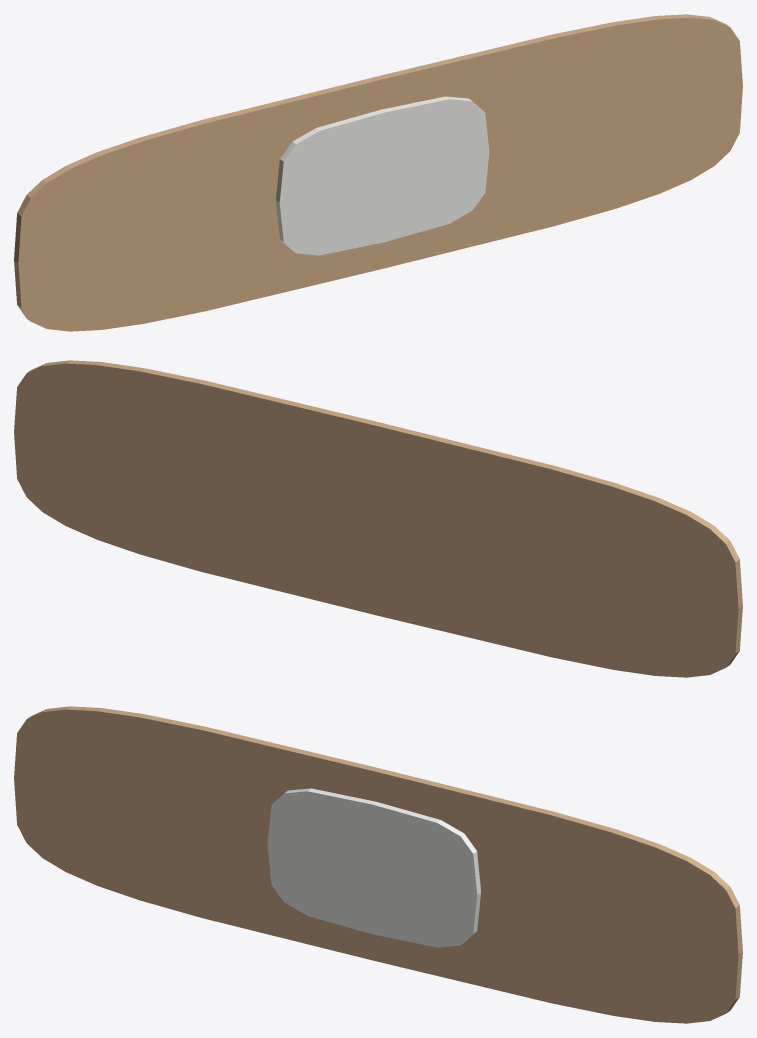
File: curativo_adesivo.obj
3 renders of one model, top to bottom at view 1: azimuth 30°, elevation 25°; view 2: azimuth 150°, elevation 25°; view 3: azimuth 330°, elevation 25°, orthographic.
Parts seen in each view (by area): view 1: curativo_adesivo_tira, curativo_adesivo_gaze; view 2: curativo_adesivo_tira; view 3: curativo_adesivo_tira, curativo_adesivo_gaze.
Boxes of the visible parts, box(x1,y1,x2,y2) form: curativo_adesivo_tira: box(14, 14, 742, 331); curativo_adesivo_gaze: box(276, 96, 489, 255); curativo_adesivo_tira: box(14, 360, 742, 677); curativo_adesivo_tira: box(14, 706, 742, 1023); curativo_adesivo_gaze: box(267, 788, 480, 947).
Size of the model in its own units: 76 by 19 by 1.5.
